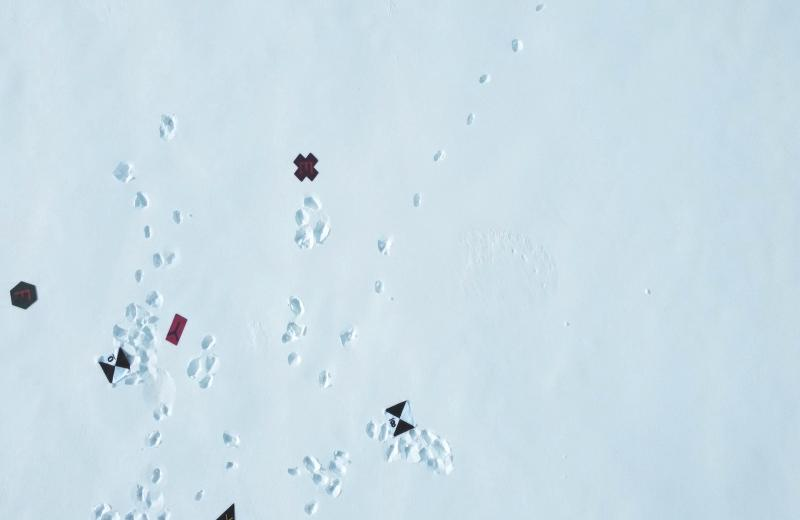Cross: (294, 150, 322, 185)
Hexagon: (10, 278, 38, 312)
Rectangle: (168, 312, 188, 348)
Triangle: (212, 503, 239, 520)
